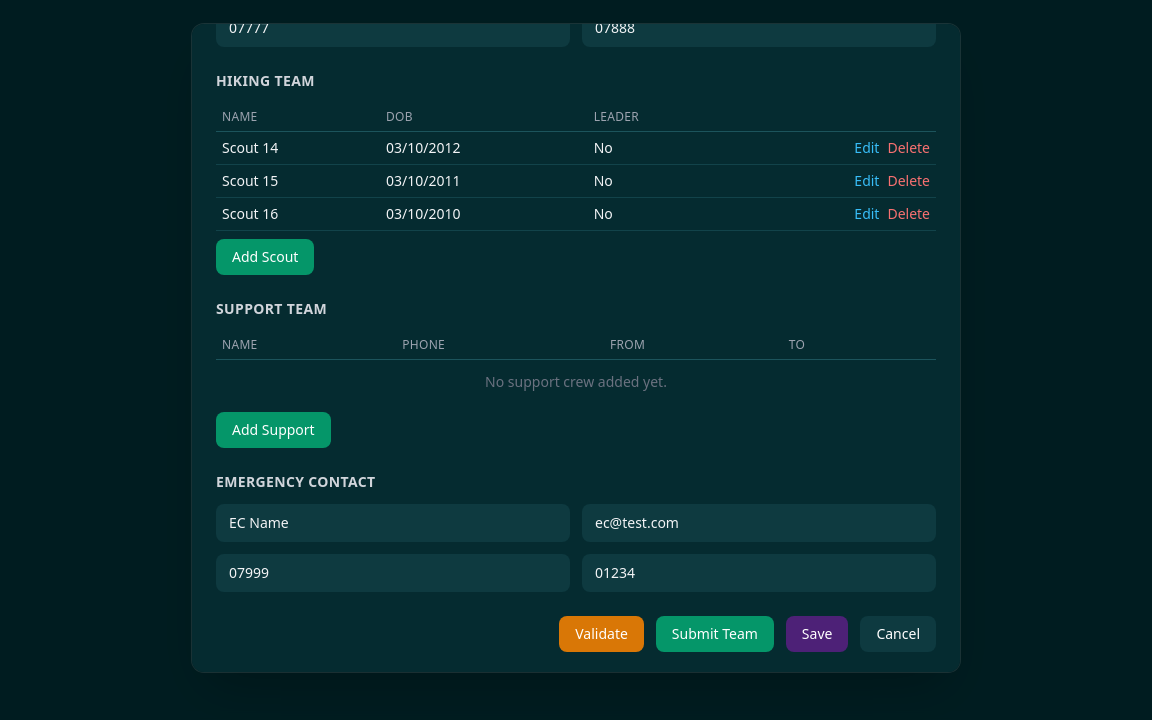
Test: TeamDialog - Validate feedback › shows a success banner with a Submit Team action when the team is valid
The width and height of the screenshot is (1152, 720).
(page scrolled)
Step 1. Click the button "Validate" → (602, 634), box [559,616,644,652]
(page scrolled)
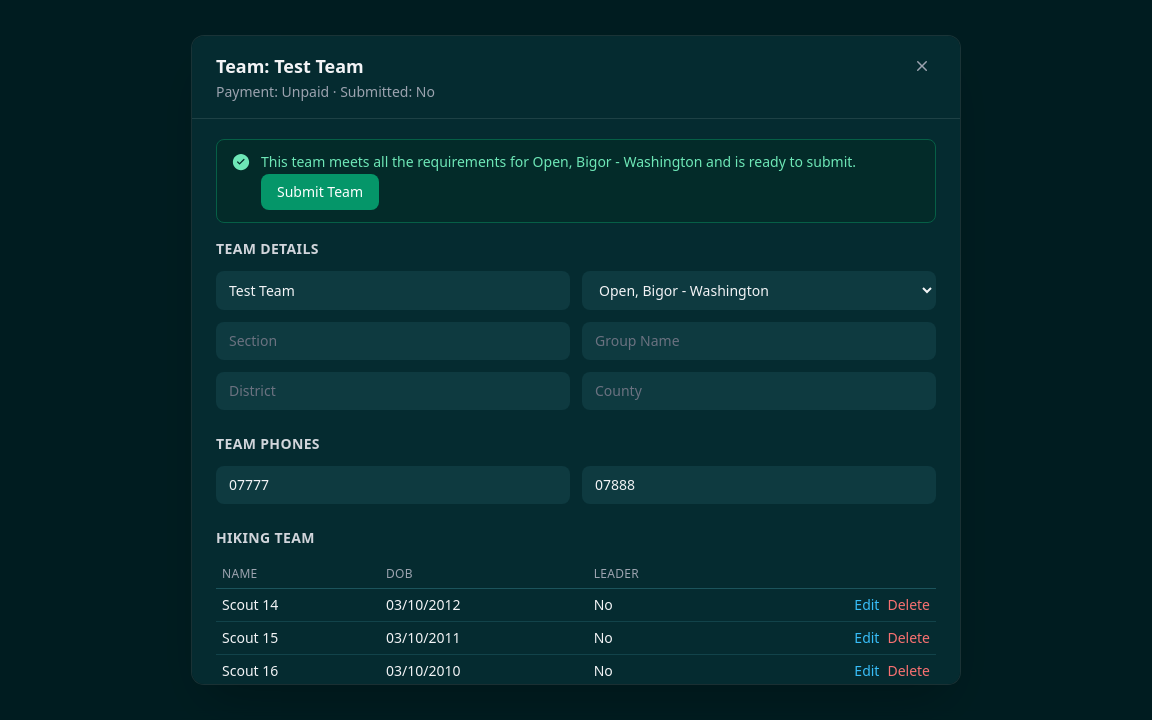
Check: the text "meets all the requirements" is shown, box [261,152,533,171]
Check: the number of buttons "Submit Team" is 2
